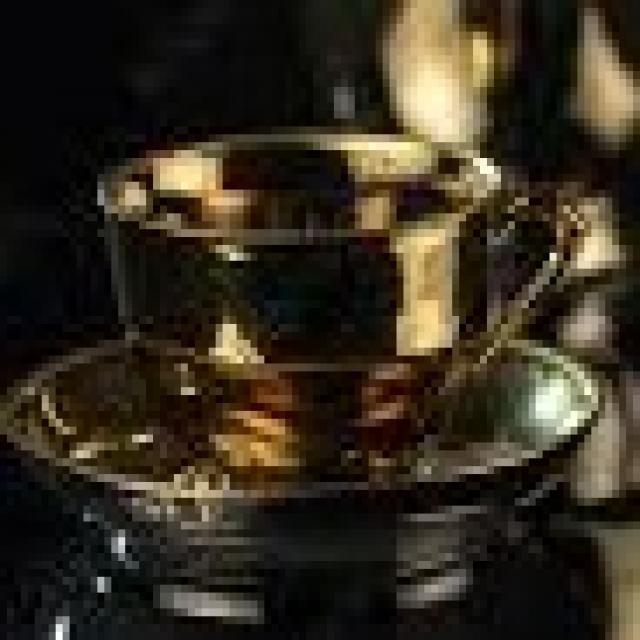taza: (79, 110, 598, 490)
